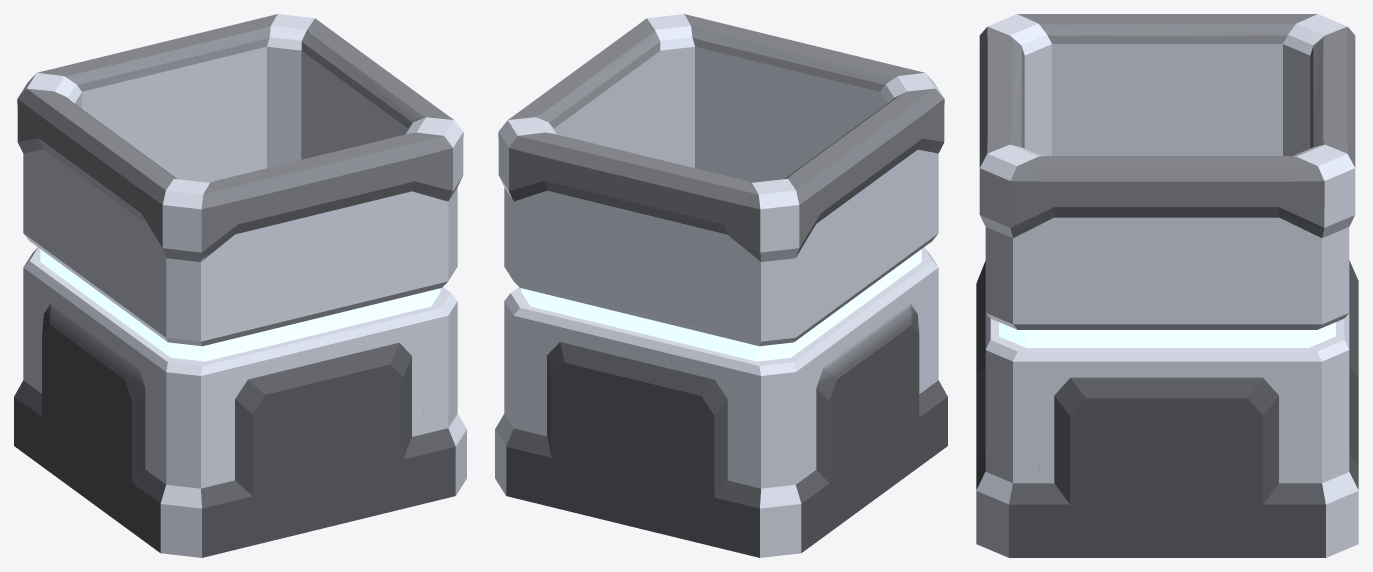
Rendered from bin02.fbx.
The picture shows the model from 3 angles, left to right: view 1: azimuth 30°, elevation 25°; view 2: azimuth 150°, elevation 25°; view 3: azimuth 270°, elevation 25°; orthographic projection. The views are drawn at different scales.
Visible parts, largest first — view 1: bin02_lp; view 2: bin02_lp; view 3: bin02_lp.
Part boxes in pixels (box(x1,y1,x2,y2)): bin02_lp: box(14, 14, 466, 557); bin02_lp: box(495, 14, 947, 557); bin02_lp: box(976, 14, 1358, 557).
Bounding box in the file's own units: 48.39 × 54.02 × 48.39.
